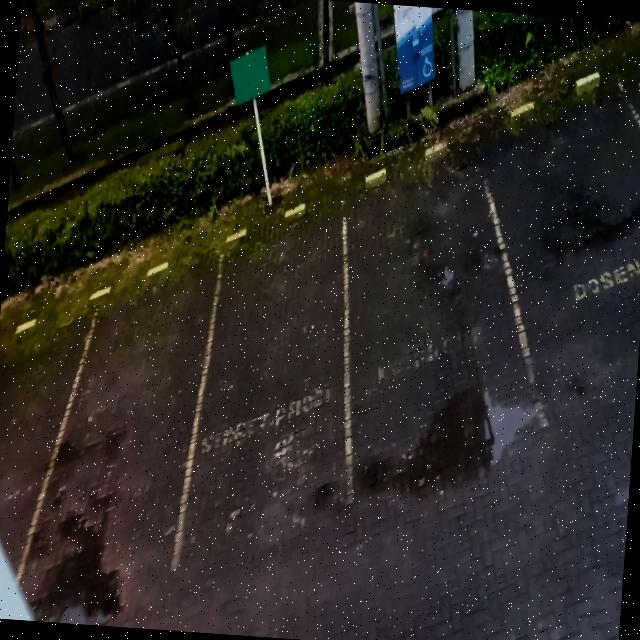empty: (326, 118, 520, 538), (184, 191, 356, 562), (492, 63, 640, 441), (54, 256, 212, 580)
